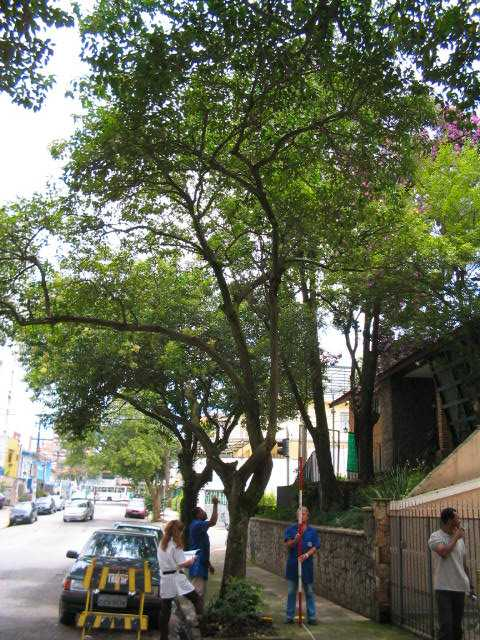crown: (6, 41, 478, 384)
stem: (213, 519, 260, 615)
stick: (292, 424, 308, 627)
tree: (4, 39, 480, 618)
